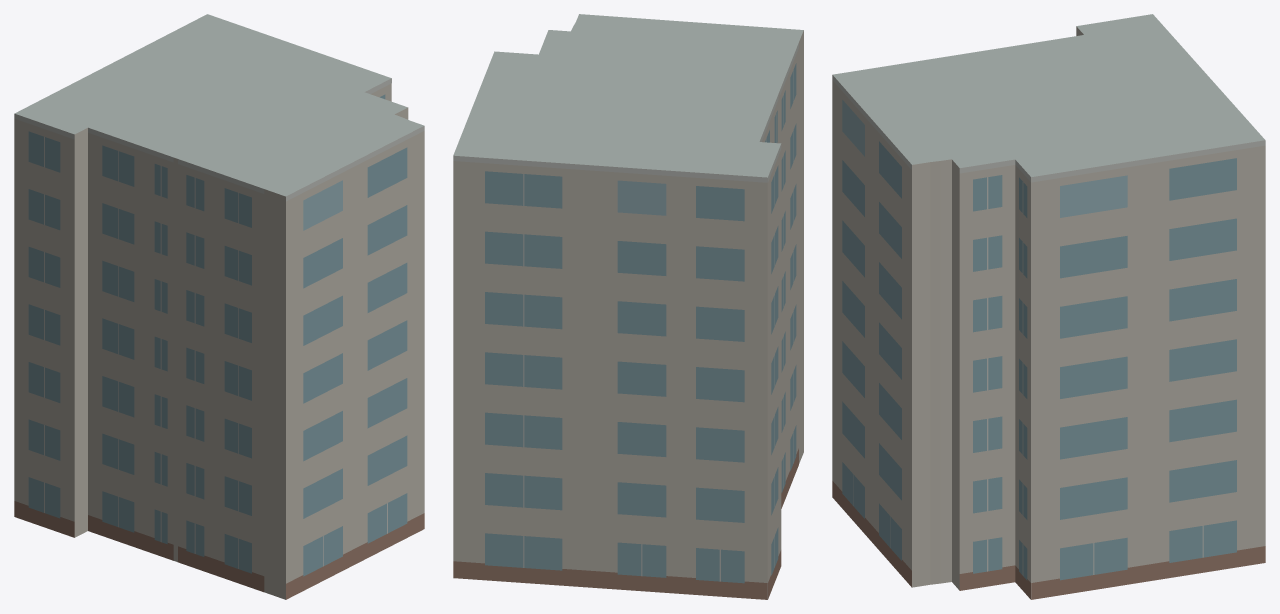
Rendered from survey-upis-33002622.glb.
3 renders of one model, left to right at view 1: azimuth 30°, elevation 25°; view 2: azimuth 150°, elevation 25°; view 3: azimuth 270°, elevation 25°, orthographic. The views are drawn at different scales.
Visible parts, largest first — view 1: survey-upis-33002622.tmp; view 2: survey-upis-33002622.tmp; view 3: survey-upis-33002622.tmp.
Part boxes in pixels (x1=…): survey-upis-33002622.tmp: x1=14, y1=14, x2=424, y2=599; survey-upis-33002622.tmp: x1=453, y1=14, x2=803, y2=599; survey-upis-33002622.tmp: x1=832, y1=14, x2=1265, y2=599.
Bounding box in the file's own units: 16.08 × 19.4 × 18.03.
